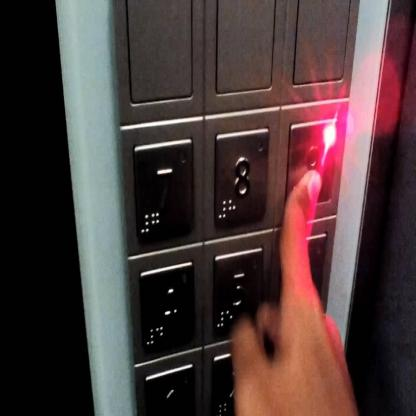4: (140, 260, 196, 355)
5: (212, 247, 263, 337)
7: (132, 138, 195, 246)
8: (214, 126, 270, 230)
blur: (284, 117, 338, 206)
